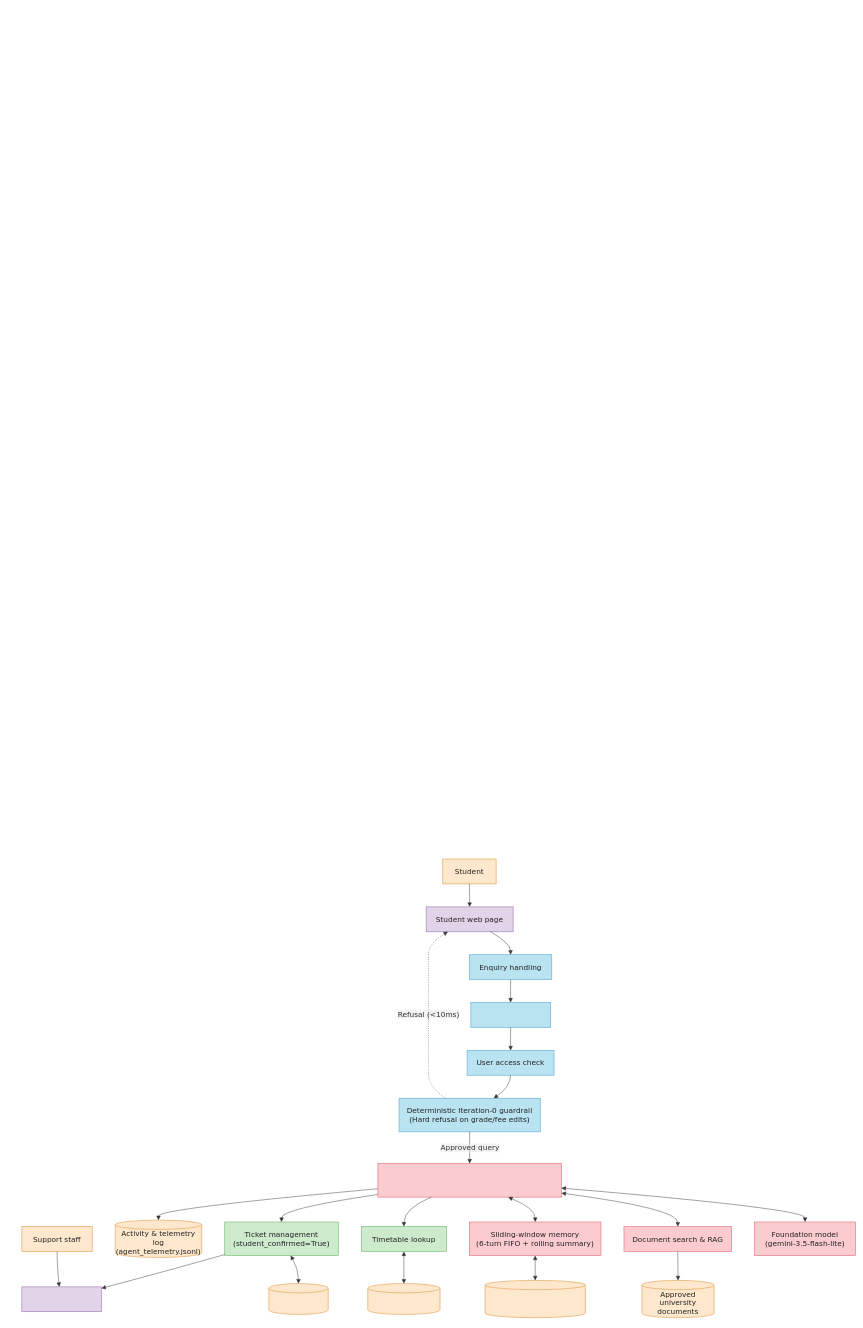
Some shapes in this 863 by 1328 pixel diagram are drawn without their labels. Each missing label, with the centre of its shape:
"Current case & session store (GDPR purge & 30-day TTL)" belongs at (x=535, y=1299).
"Input validation" belongs at (x=510, y=1015).
"ReAct agent orchestrator (Sense → Plan → Act → Observe | max_iter=3)" belongs at (x=469, y=1180).
"Staff dashboard" belongs at (x=61, y=1299).
"Ticket database" belongs at (x=298, y=1299).
"Timetable database" belongs at (x=403, y=1299).
